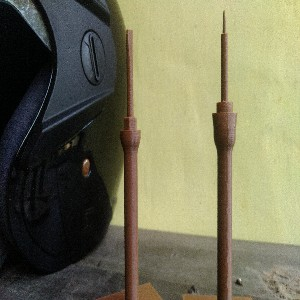obeng: (119, 29, 142, 300)
solder: (212, 9, 239, 300)
